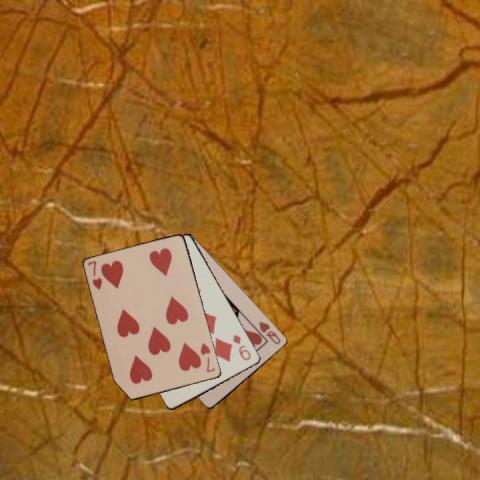7h: (197, 340, 217, 374), (85, 258, 104, 291)
9d: (230, 331, 253, 362)
Qh: (256, 319, 282, 346)
